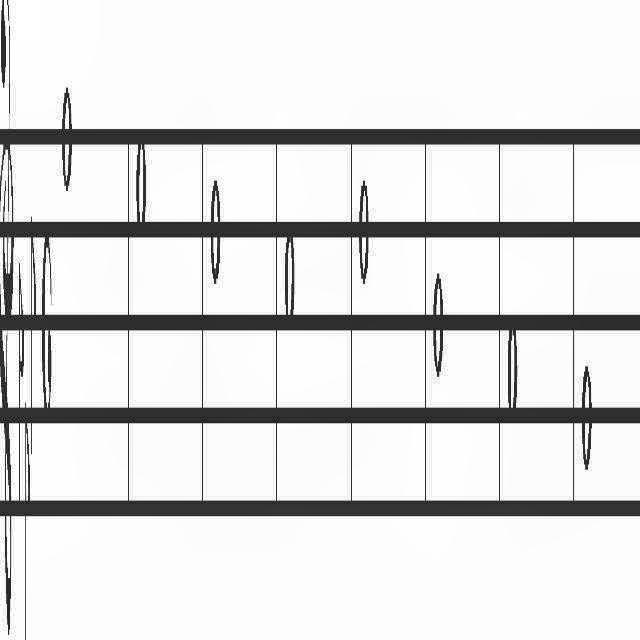Bass-clef: (0, 0, 16, 640)
Bemol: (24, 392, 32, 640), (18, 248, 24, 516), (31, 221, 37, 459)
Full-note: (60, 77, 72, 211), (210, 176, 222, 300), (134, 124, 146, 242), (580, 357, 592, 475), (358, 176, 369, 294), (284, 226, 296, 330), (433, 268, 443, 382), (507, 320, 518, 418)
